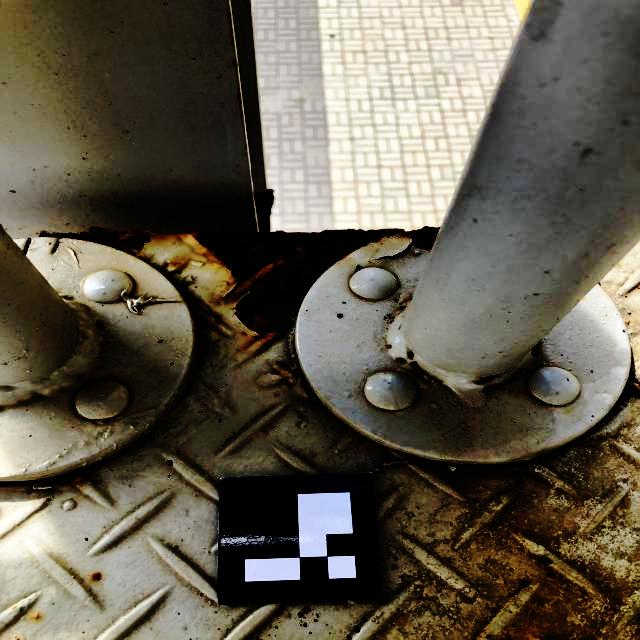Corrosion: (188, 225, 439, 342), (39, 226, 166, 256), (75, 450, 122, 473), (254, 190, 274, 232), (188, 298, 220, 324), (625, 374, 640, 397), (55, 473, 80, 481), (91, 572, 101, 580), (232, 59, 238, 70), (238, 91, 242, 106), (283, 368, 293, 374), (232, 32, 235, 47), (35, 612, 40, 620), (173, 262, 180, 267), (228, 14, 232, 22), (11, 606, 17, 610), (243, 332, 247, 336), (16, 638, 21, 640), (216, 302, 219, 305)
